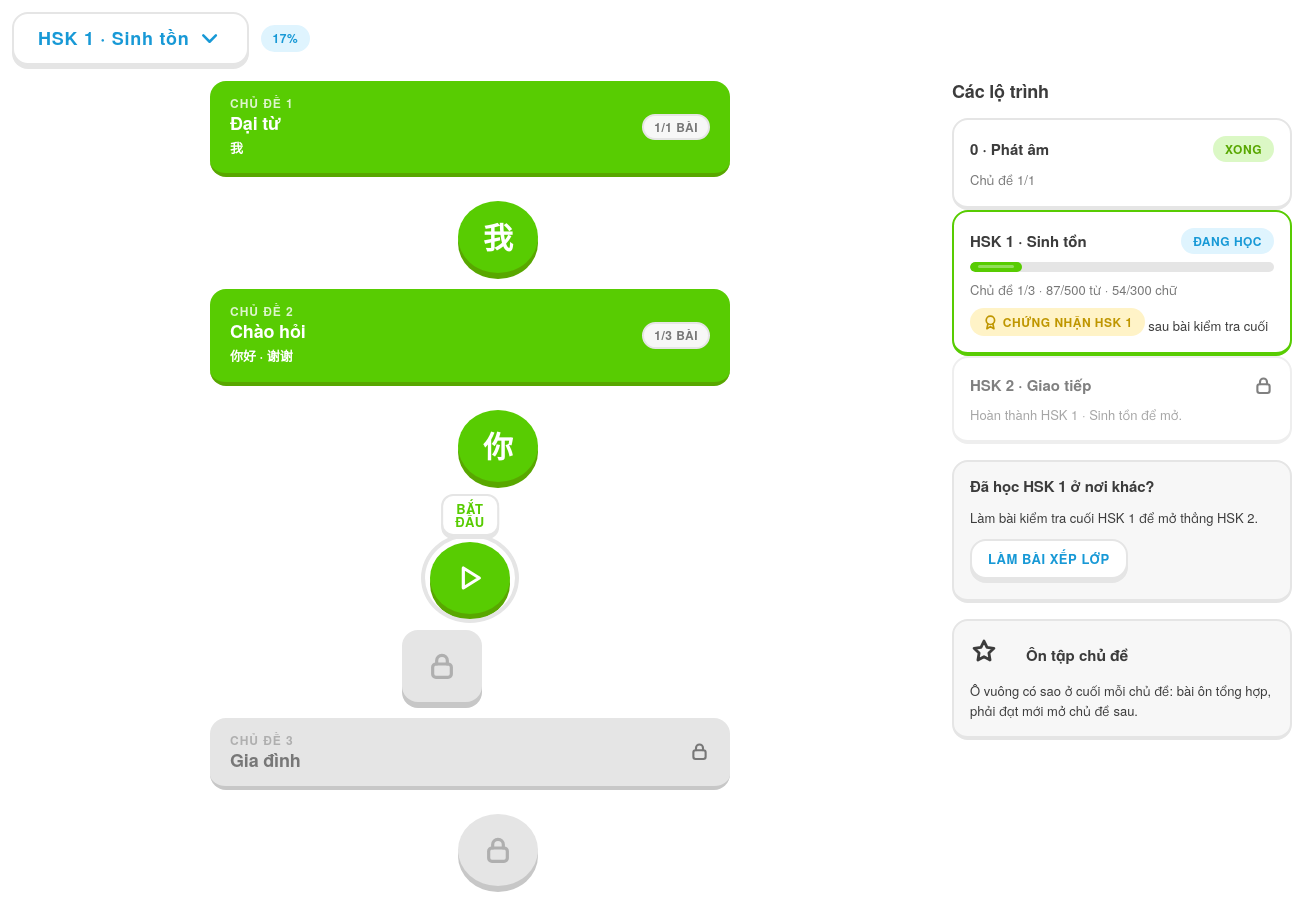
it: PathView › bấm bài mở → thẻ mô tả với nút Bắt đầu tới /bai/{id}; bấm lại thì đóng
Click the button named "Bạn tên gì".
click(470, 578)  # box [430,542,510,614]
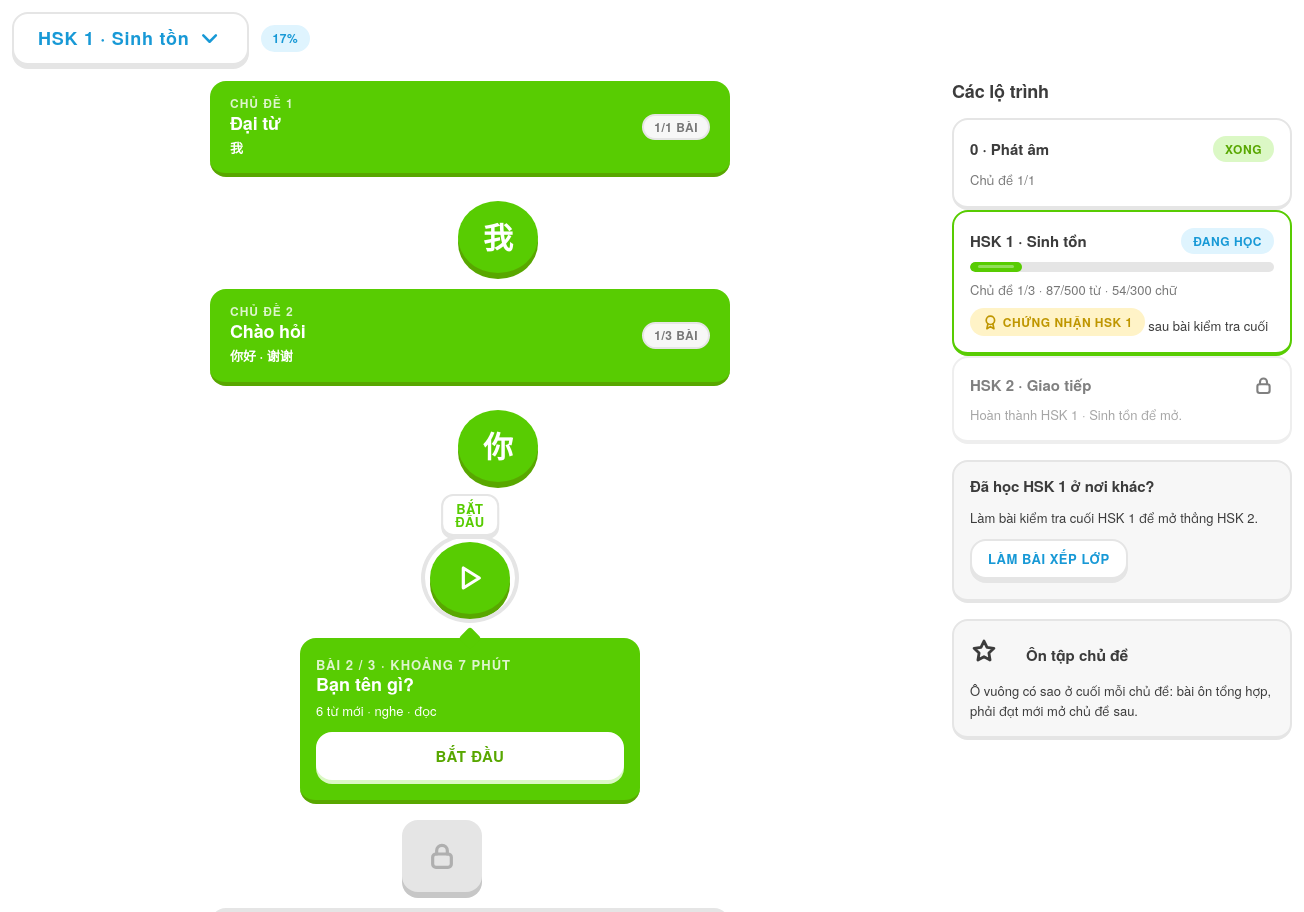
Result: the text "Bài 2 / 3 · khoảng 7 phút" is shown at [316,655,511,674]
Result: the text "6 từ mới · nghe · đọc" is shown at [316,701,436,720]
Click the button named "Bạn tên gì".
click(470, 578)  # box [430,542,510,614]
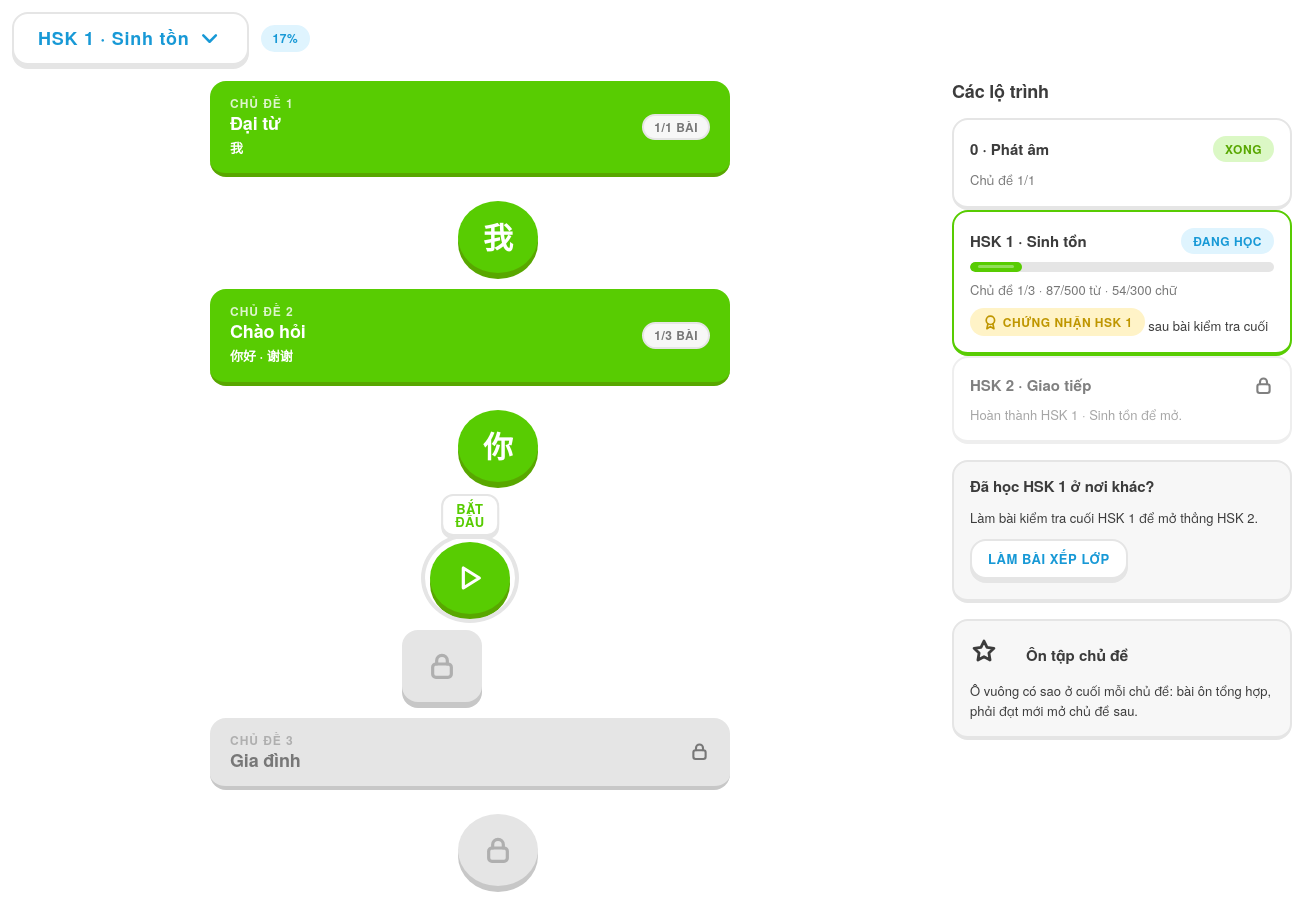
Result: the link "Bắt đầu" is gone
